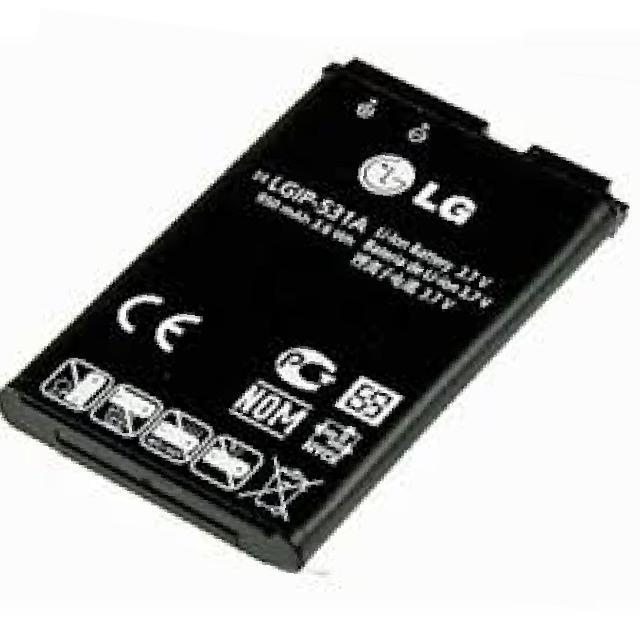Battery: (1, 18, 639, 582)
